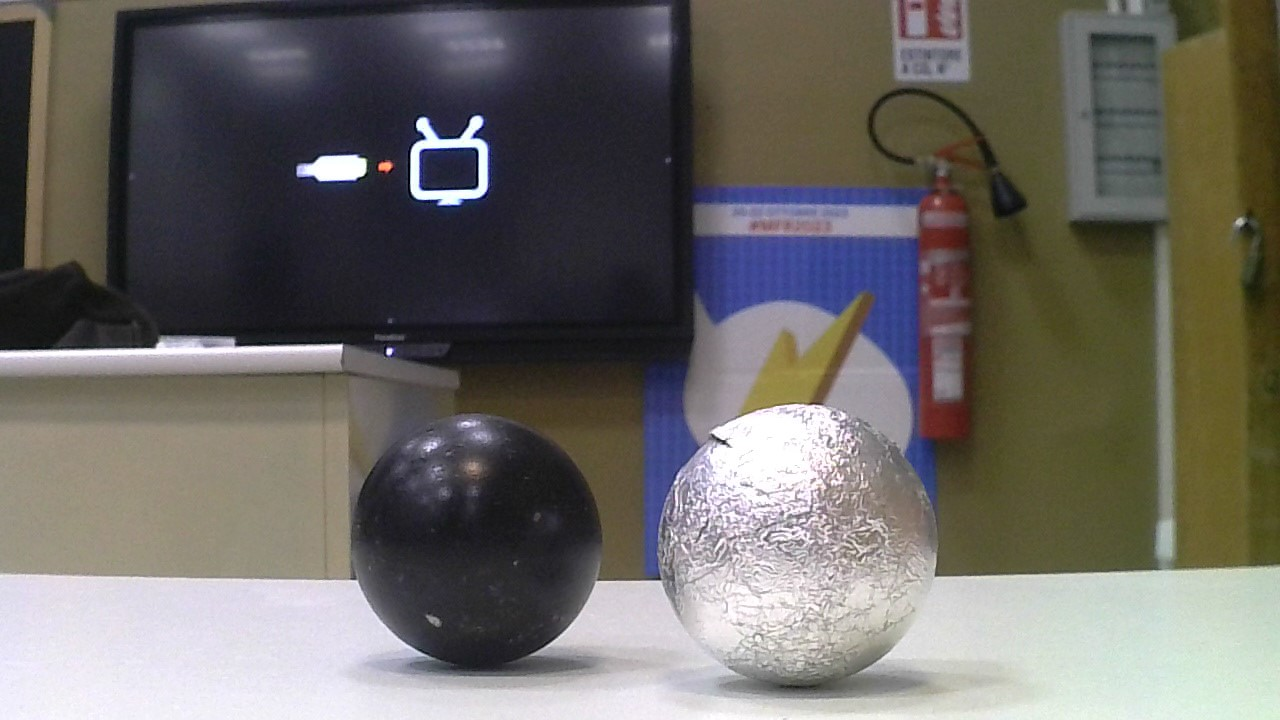black_ball: (344, 409, 603, 675)
silver_ball: (656, 397, 943, 697)
